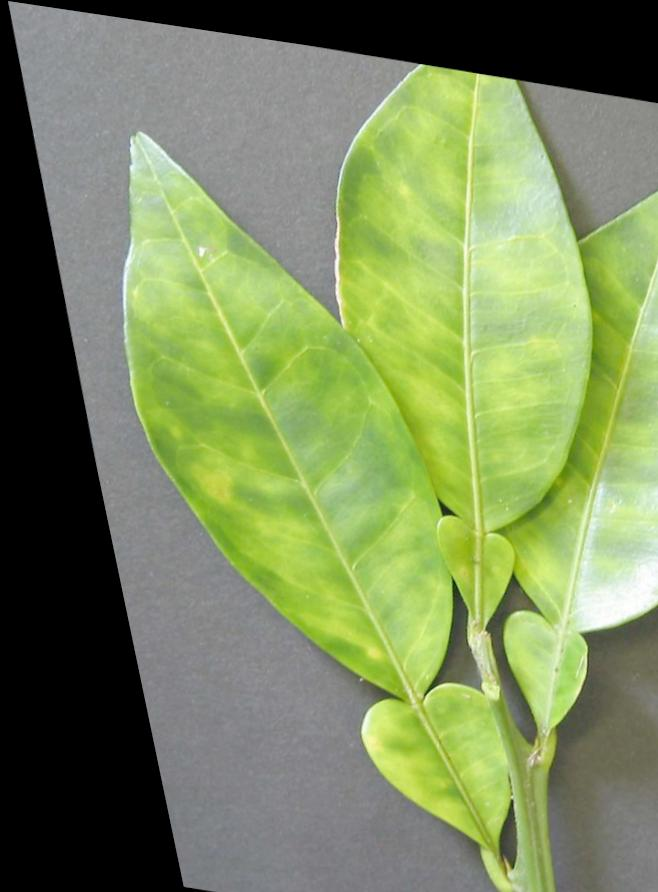Citrus Greening: (78, 130, 495, 861), (288, 34, 639, 693), (99, 131, 460, 683), (400, 132, 658, 773), (311, 36, 606, 516), (400, 131, 658, 619)
